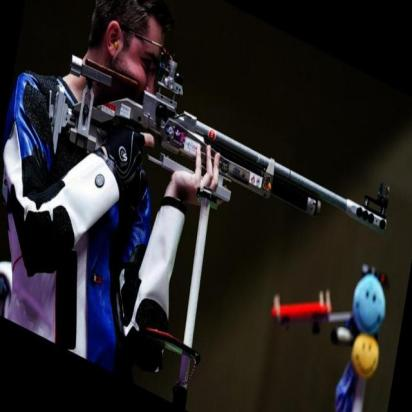Gun: (60, 41, 392, 296)
